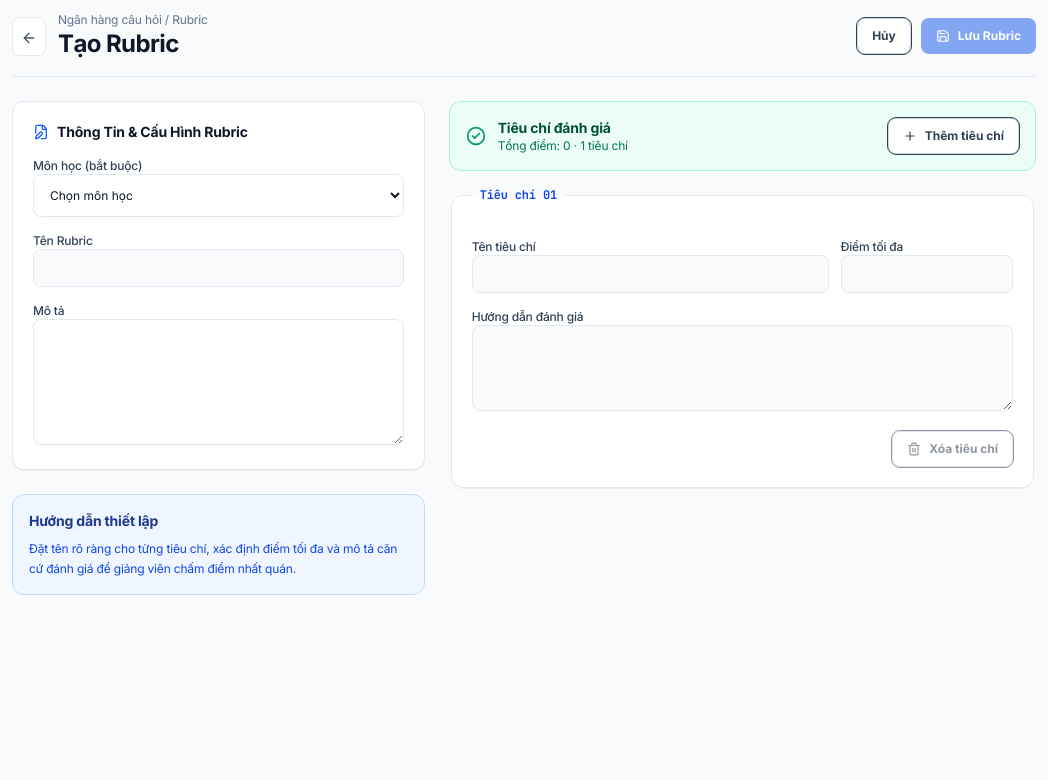
it: API rubric workflow › requires a course, submits its ID and preserves input after save failure
Expected: the button "Lưu Rubric" is disabled, x1=921 y1=18 x2=1036 y2=54
Select "INT2204 · Java" in the dropdown labelled "Môn học (bắt buộc)": (218, 196) x1=33 y1=174 x2=404 y2=217
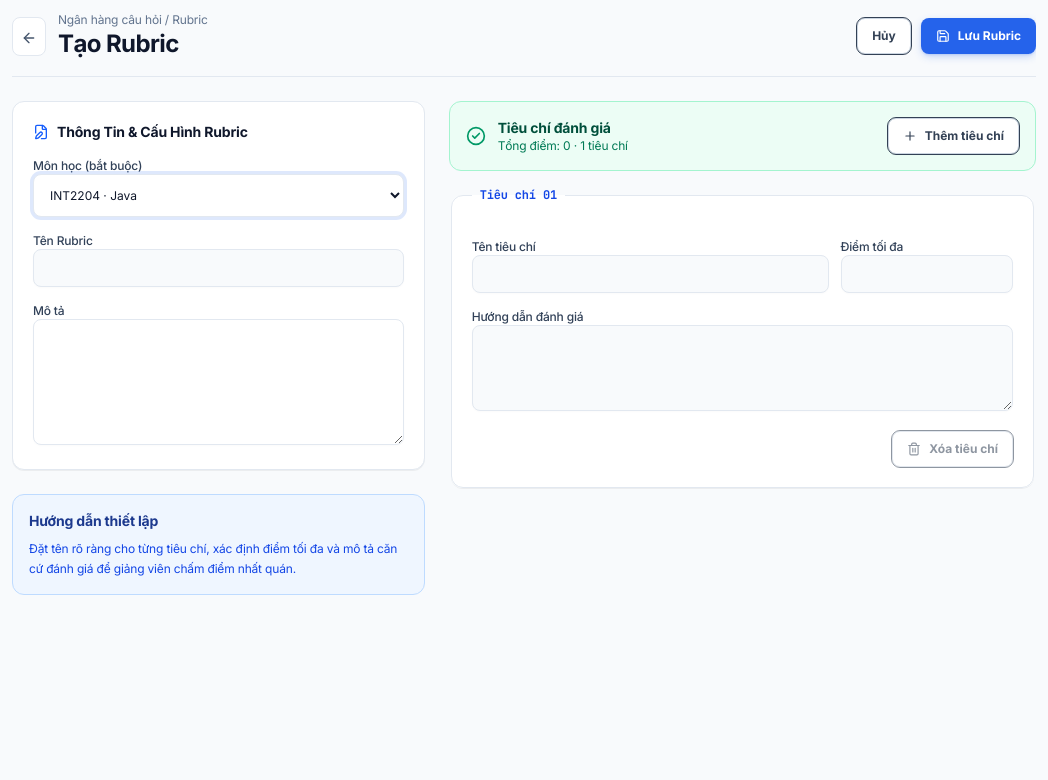
In the field labelled "Tên Rubric": (218, 268) x1=33 y1=249 x2=404 y2=287, type "Rubric kiểm thử"
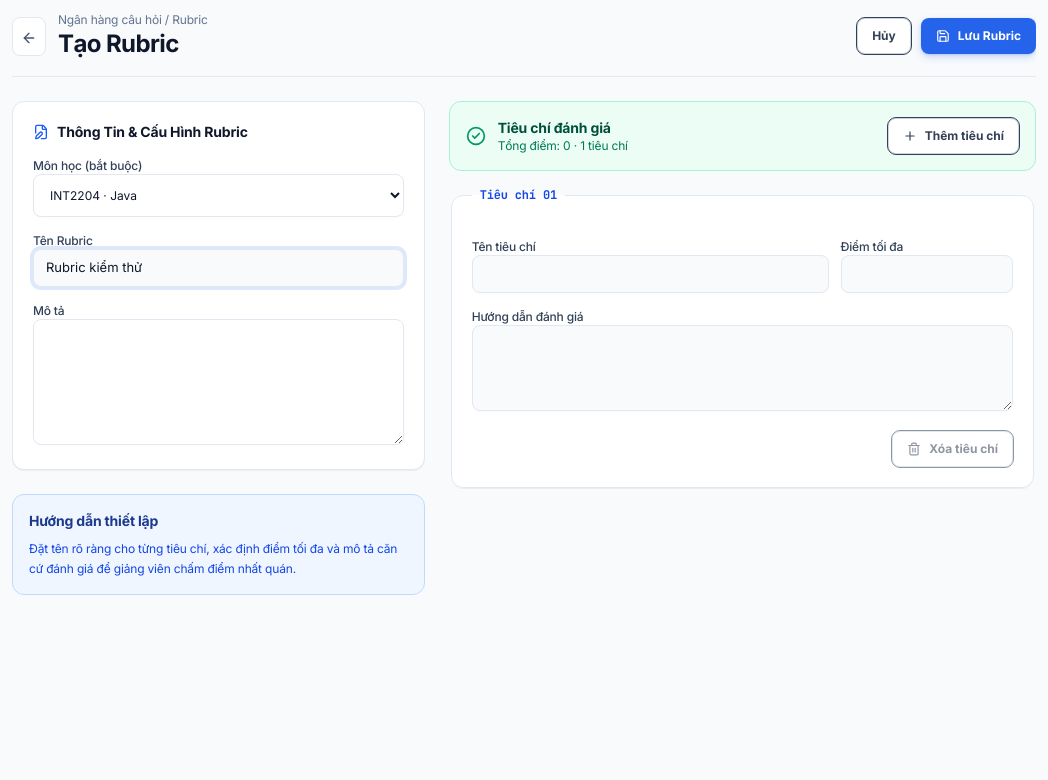
In the field labelled "Tên tiêu chí": (650, 274) x1=472 y1=255 x2=829 y2=293, type "Kiến thức"
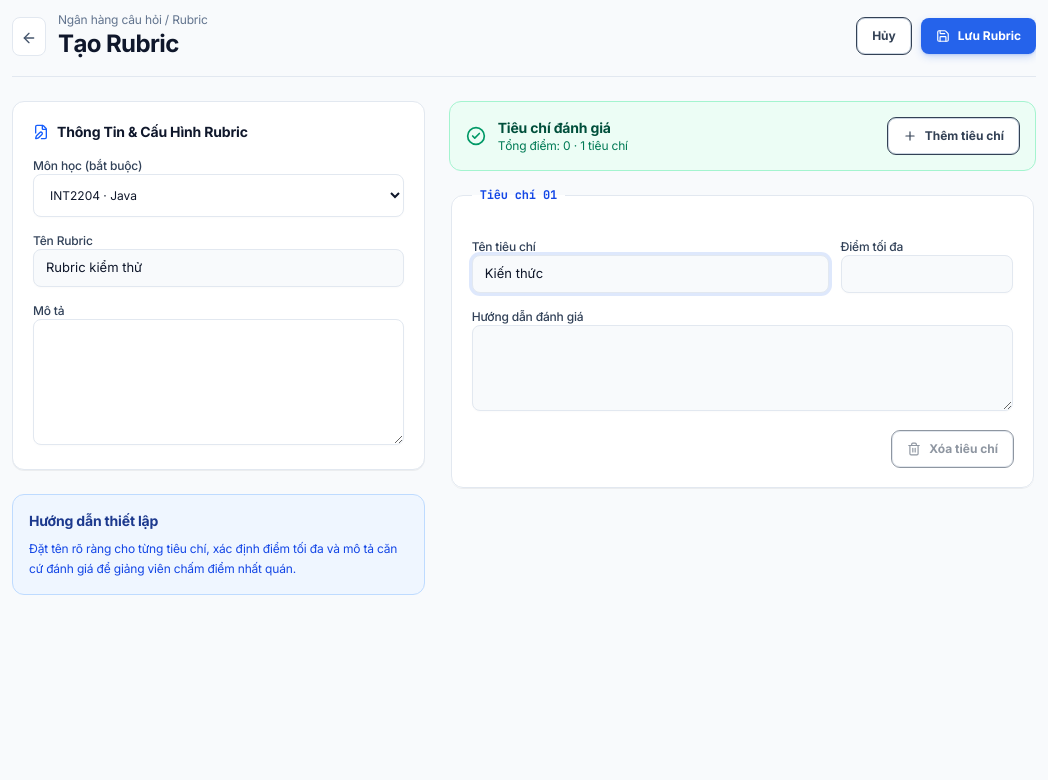
In the number field labelled "Điểm tối đa": (927, 274) x1=840 y1=255 x2=1013 y2=293, type "10"
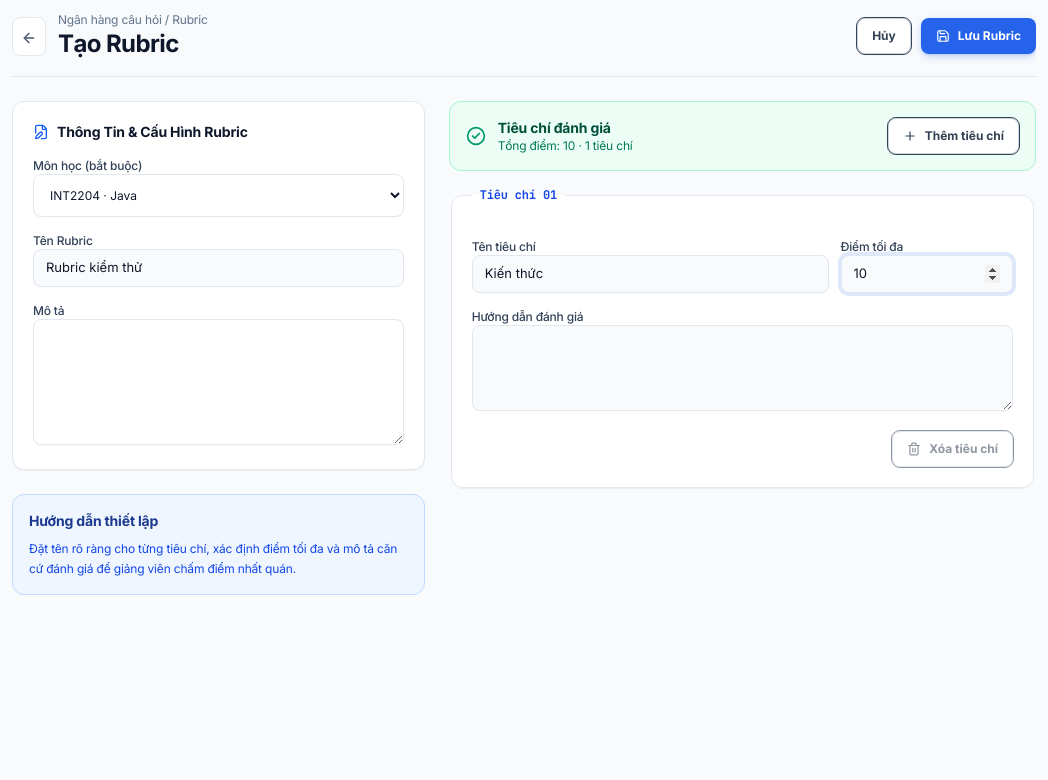
Click the button "Lưu Rubric": (978, 36) x1=921 y1=18 x2=1036 y2=54
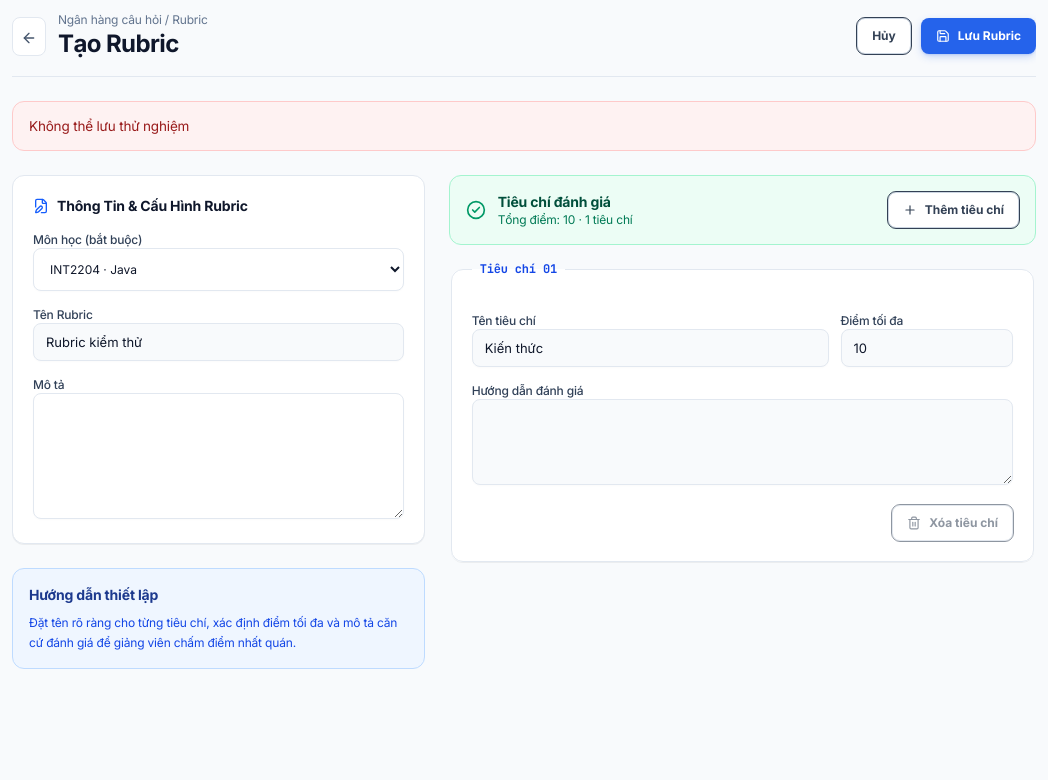
Now the text "Không thể lưu thử nghiệm" is shown, box x1=12 y1=101 x2=1036 y2=151
